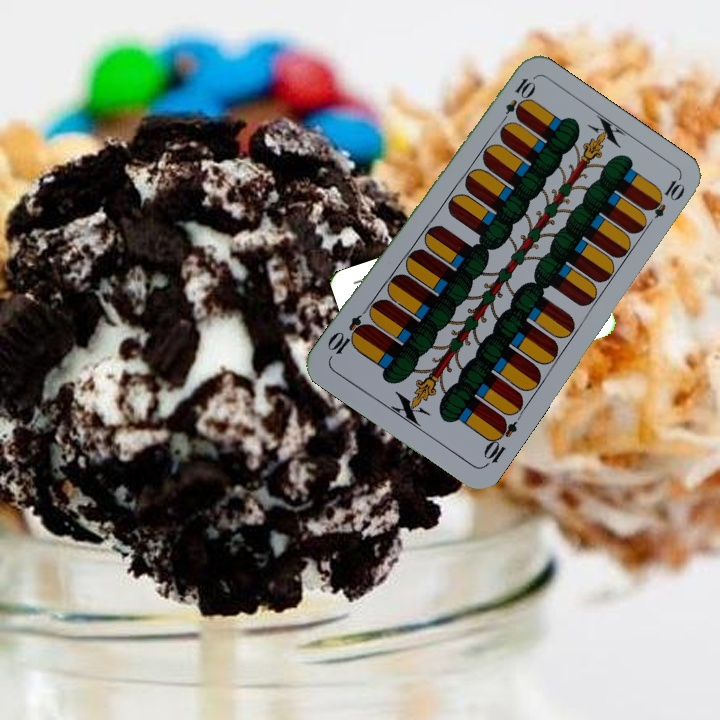E10: (479, 413, 520, 470), (496, 74, 537, 129)
